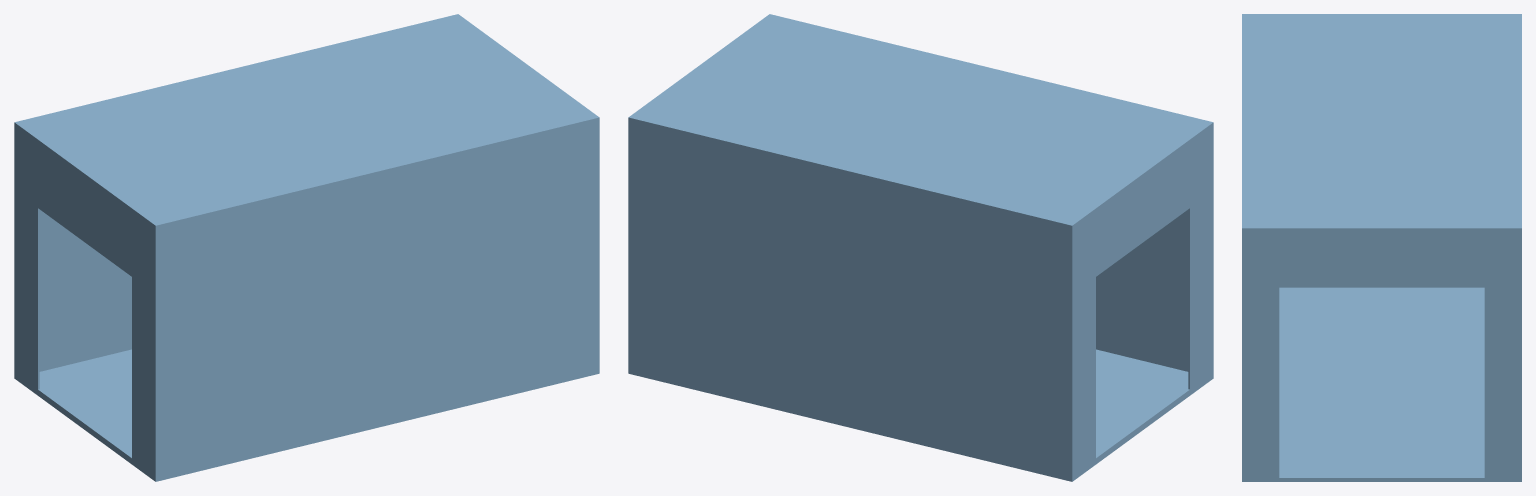
The model's file is laboratory.glb.
3 renders of one model, left to right at view 1: azimuth 30°, elevation 25°; view 2: azimuth 150°, elevation 25°; view 3: azimuth 270°, elevation 25°, orthographic.
Parts seen in each view (by area): view 1: laboratorio; view 2: laboratorio; view 3: laboratorio.
Boxes of the visible parts, x1,y1,x2,y2 form: laboratorio: (14, 14, 599, 481); laboratorio: (628, 14, 1213, 481); laboratorio: (1242, 14, 1521, 481).
Size of what is drawn, in the model's own units: 7.97 by 4.4 by 4.4.
Materials: 1 (1 with a texture image).
